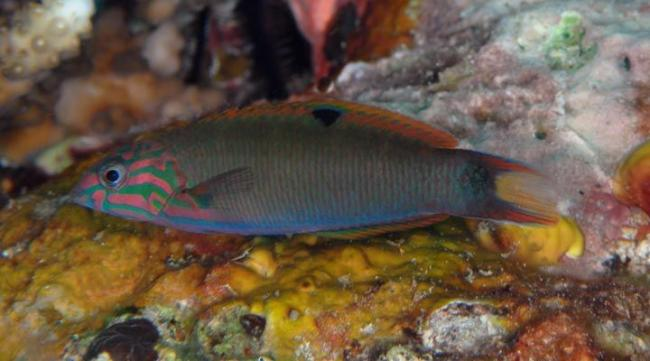fish: (71, 96, 561, 241)
